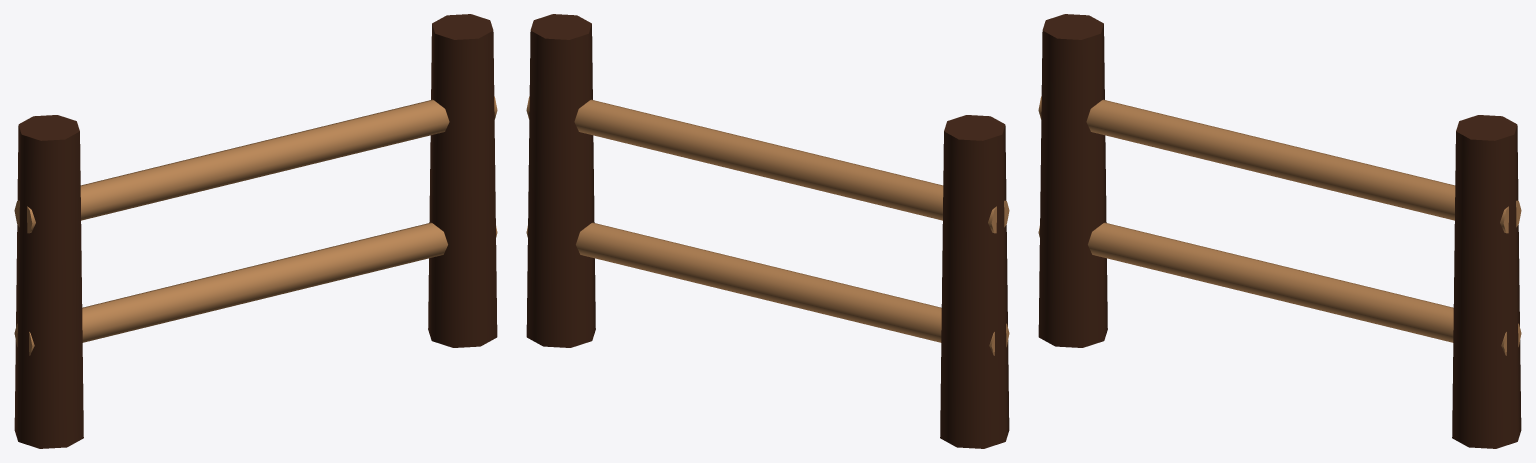
File: fence_simple.glb
3 views of the same model, side by side, from view 1: azimuth 30°, elevation 25°; view 2: azimuth 150°, elevation 25°; view 3: azimuth 330°, elevation 25° (orthographic).
Visible parts, largest first — view 1: Khmer_Rural_Fence; view 2: Khmer_Rural_Fence; view 3: Khmer_Rural_Fence.
Boxes of the visible parts, bbox=[...] form: Khmer_Rural_Fence: bbox=[14, 14, 497, 448]; Khmer_Rural_Fence: bbox=[526, 14, 1009, 448]; Khmer_Rural_Fence: bbox=[1038, 14, 1521, 448].
Bounding box in the file's own units: 1.38 × 0.85 × 0.18.
